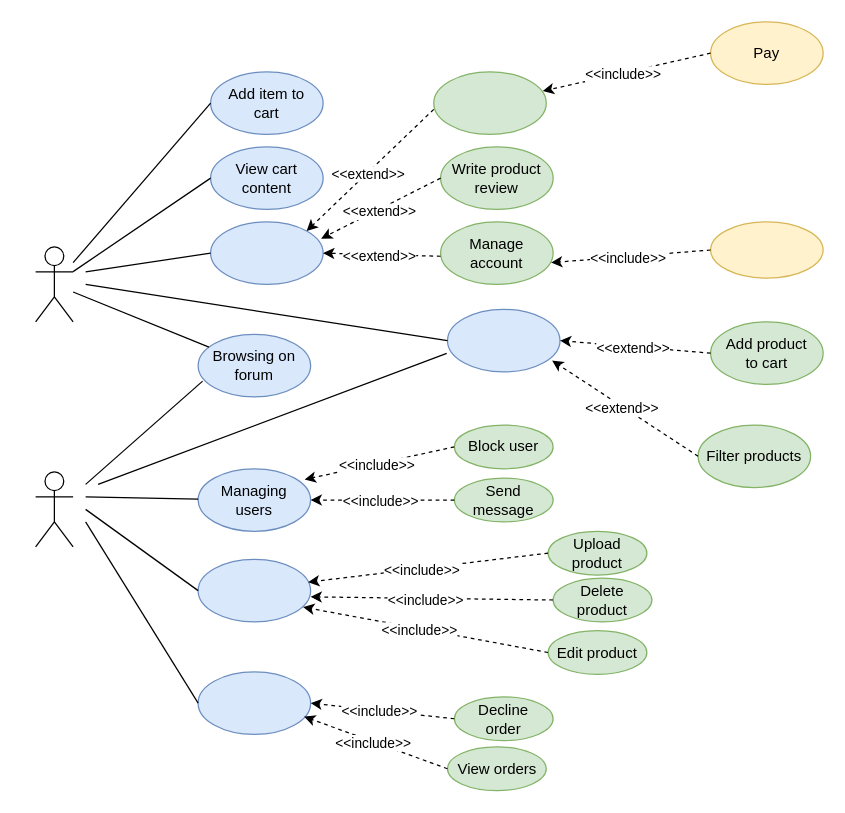
The diagram is 845 pixels wide and 813 high, and some of its shapes have lost their labels. Here are the shapes that lost their labels. From the top down, the box of each, then its label:
(432, 71, 546, 134): Buy product
(209, 221, 323, 284): Log in
(709, 221, 823, 278): Edit personal info
(34, 246, 73, 322): Customer
(446, 308, 560, 372): View products
(34, 471, 73, 547): Admin
(197, 558, 311, 622): Managing stocks
(197, 671, 311, 734): Magaging Orders
